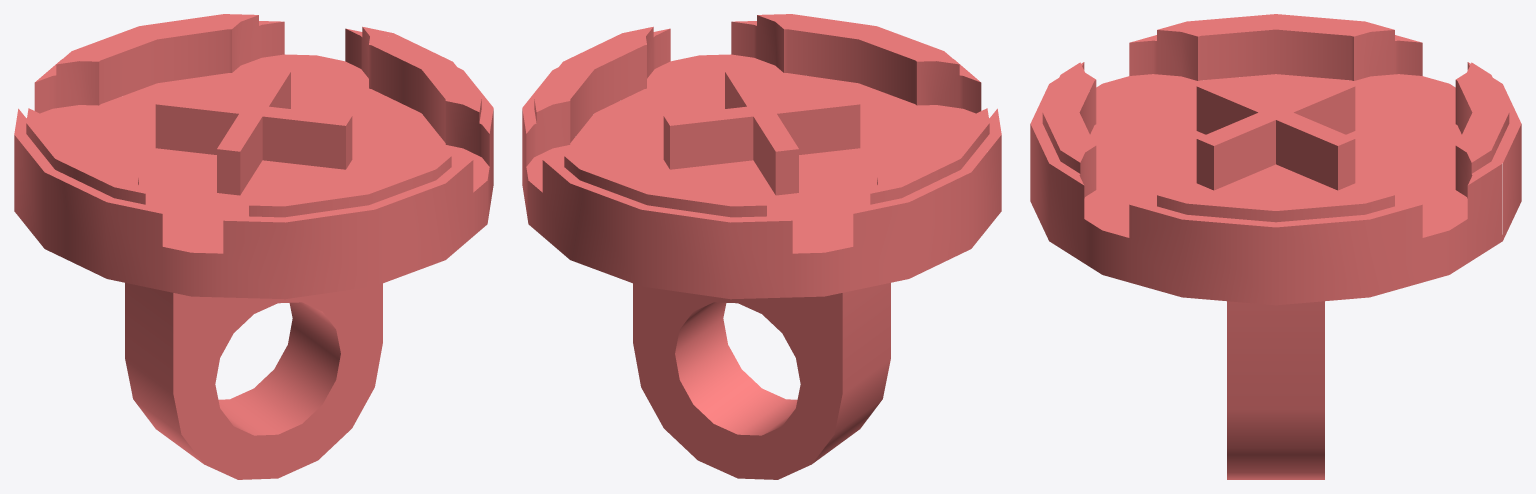
The picture shows the model from 3 angles, left to right: view 1: azimuth 30°, elevation 25°; view 2: azimuth 150°, elevation 25°; view 3: azimuth 270°, elevation 25°; orthographic projection.
Parts seen in each view (by area): view 1: 4150.dat, LDrawPart; view 2: 4150.dat, LDrawPart; view 3: 4150.dat, LDrawPart.
Boxes of the visible parts, x1,y1,x2,y2 form: 4150.dat: [14, 14, 493, 299]; LDrawPart: [125, 283, 382, 479]; 4150.dat: [522, 14, 1001, 299]; LDrawPart: [633, 283, 890, 479]; 4150.dat: [1030, 14, 1521, 305]; LDrawPart: [1227, 301, 1324, 479].
Size of the model in its own units: 0.28 by 0.224 by 0.28.
